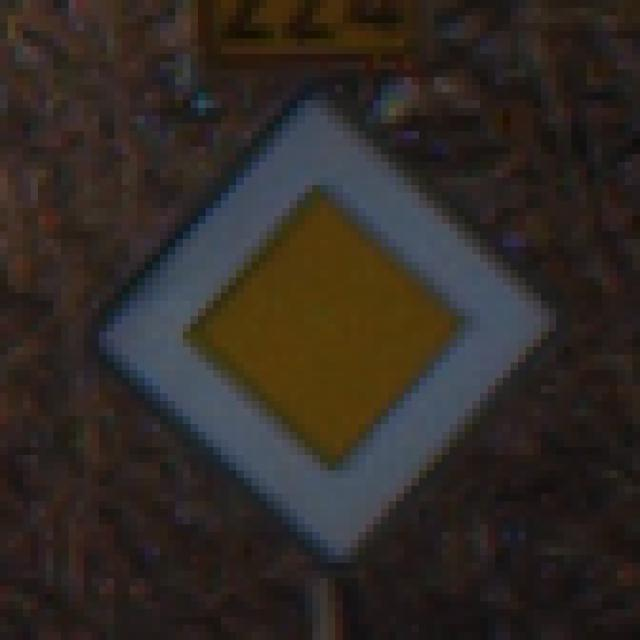Main Road: (62, 55, 588, 587)
